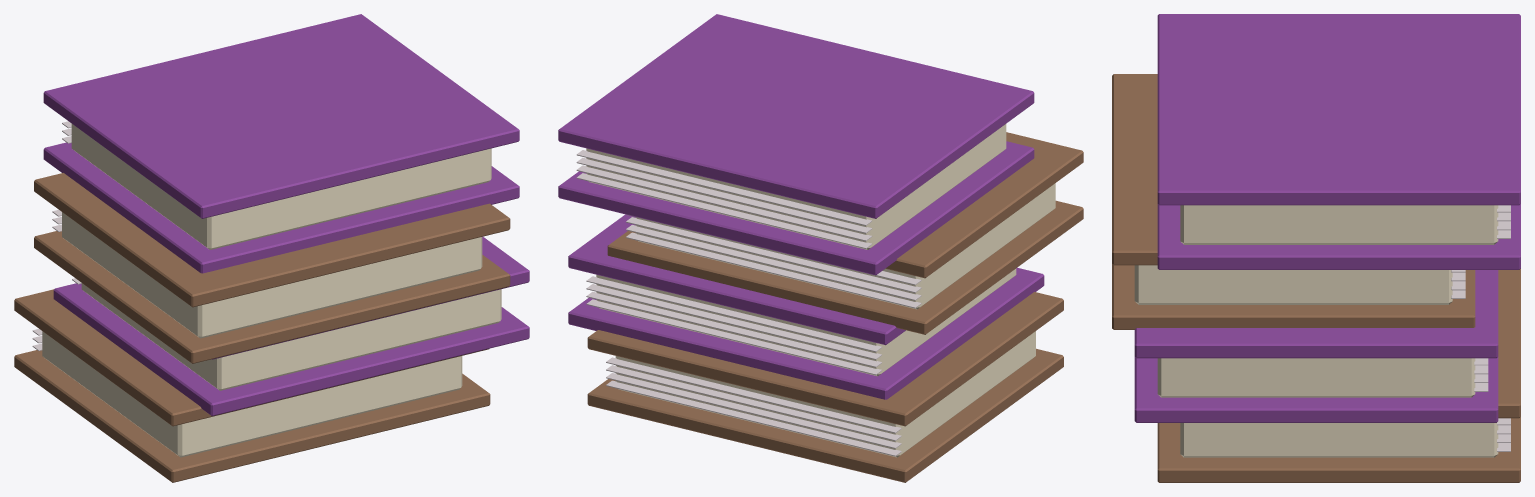
File: crypt_books.glb
3 renders of one model, left to right at view 1: azimuth 30°, elevation 25°; view 2: azimuth 150°, elevation 25°; view 3: azimuth 270°, elevation 25°, orthographic. The views are drawn at different scales.
Bounding box in the file's own units: 0.71 × 0.525 × 0.63.
